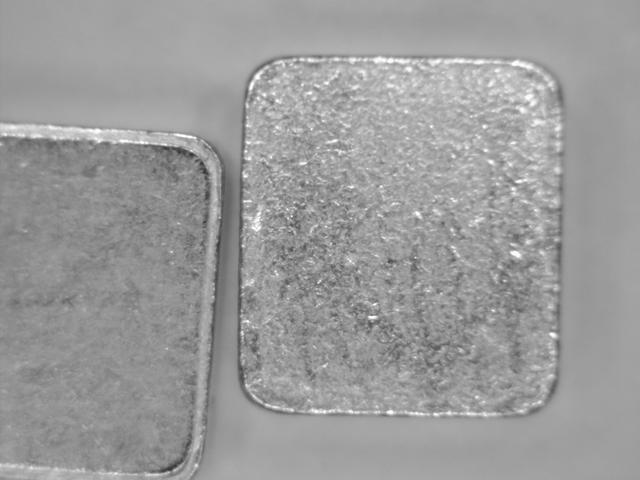nok: (5, 125, 226, 476)
ok: (235, 52, 577, 428)
